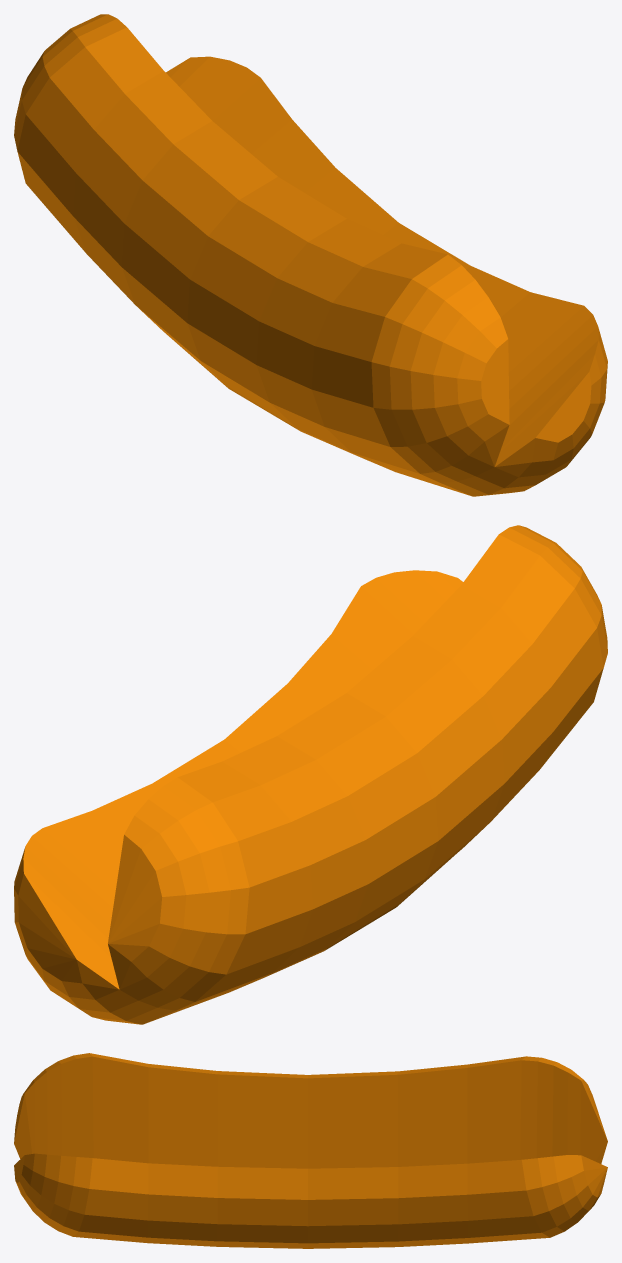
The model's file is bunHotDog.fbx.
3 views of the same model, one above another, from view 1: azimuth 30°, elevation 25°; view 2: azimuth 150°, elevation 25°; view 3: azimuth 270°, elevation 25° (orthographic). The views are drawn at different scales.
Visible parts, largest first — view 1: Sphere; view 2: Sphere; view 3: Sphere.
Part boxes in pixels (left/top/right/bottom): Sphere: left=14, top=14, right=607, bottom=496; Sphere: left=14, top=525, right=607, bottom=1024; Sphere: left=14, top=1053, right=607, bottom=1248.
Bounding box in the file's own units: 230 × 240 × 717.
